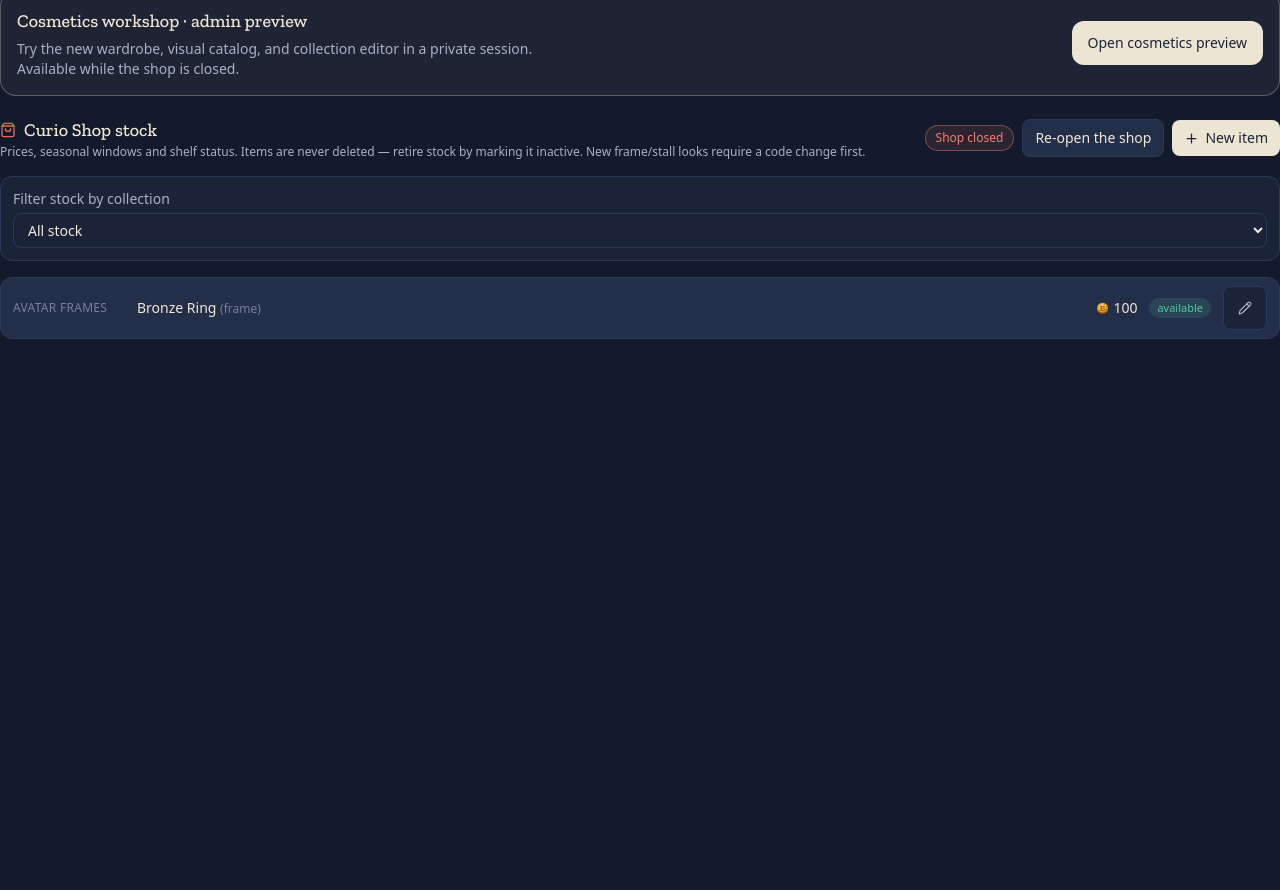
it: admin-only cosmetics preview › opens from Manage while the real shop remains closed
What coordinates should you click on to do the following:
click the button "Open cosmetics preview"
I would click on:
 (1167, 43)
Its box is [1072,21,1263,65].
(page scrolled)
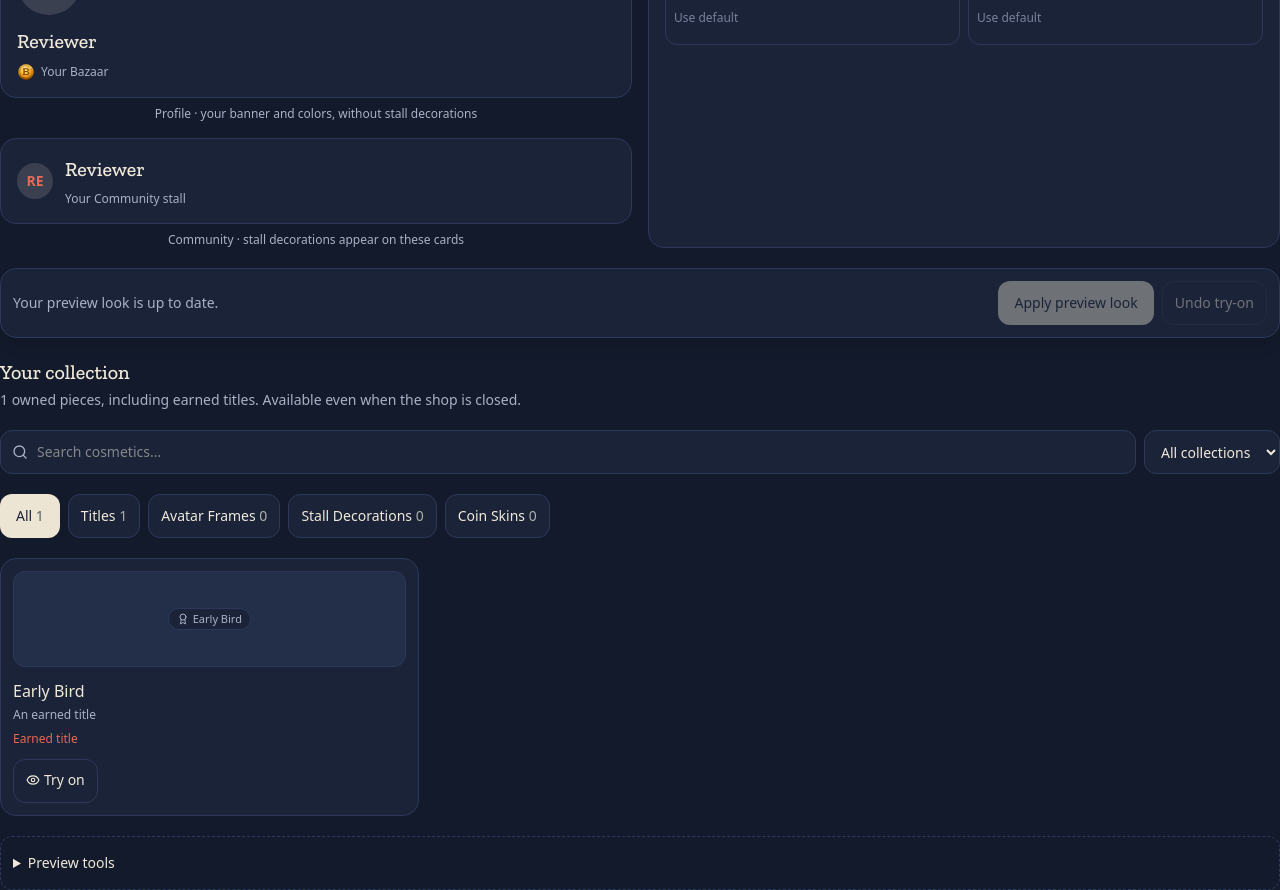
expect the element "Early Bird" is shown: met, box [0,558,419,816]
